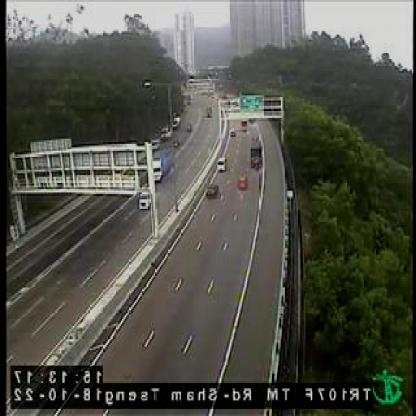Car: (206, 184, 220, 200), (138, 194, 152, 210), (237, 174, 248, 190), (216, 158, 225, 172), (230, 130, 236, 139)
Truck: (152, 150, 174, 182), (248, 137, 264, 170)
